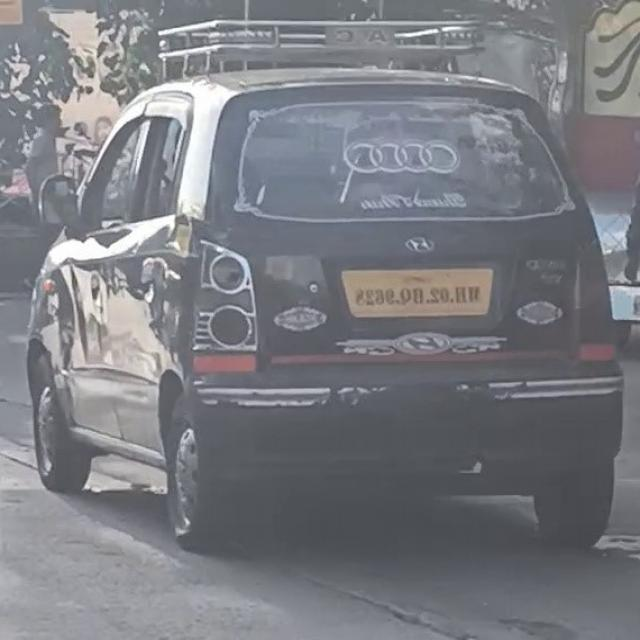license_plate: (337, 260, 500, 327)
